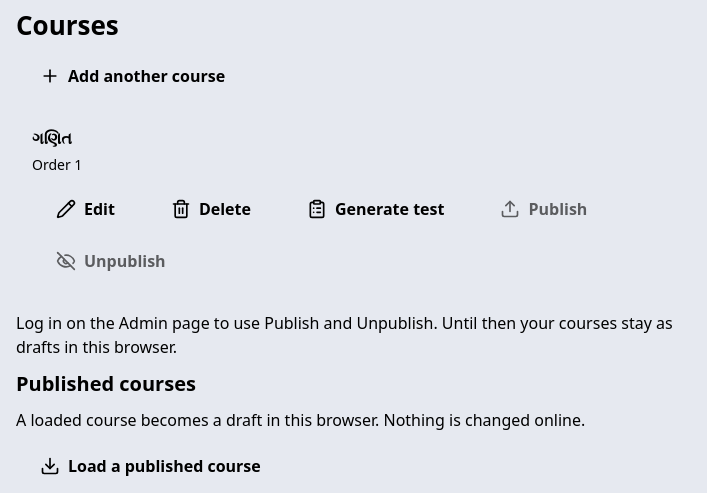
Test: CourseManager: delete a test › keeps the test and shows a friendly message when the storage fails
Click the button "Generate test".
click(376, 208)  # box [283,186,468,230]
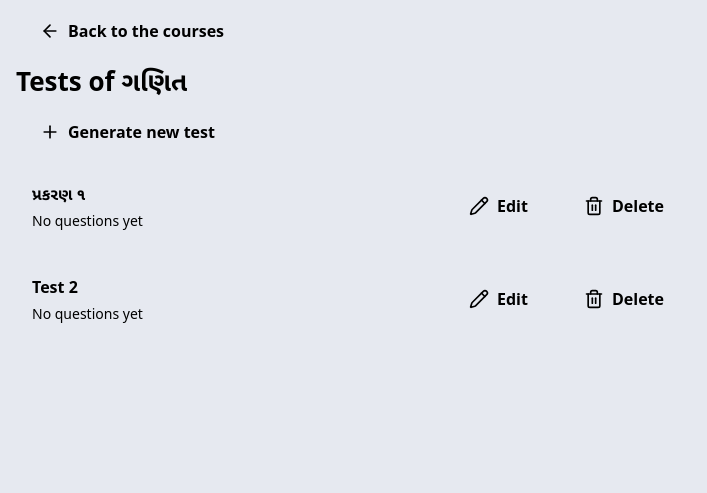
Click the button "Delete" in the row of "પ્રકરણ ૧".
click(624, 206)  # box [560,184,688,228]
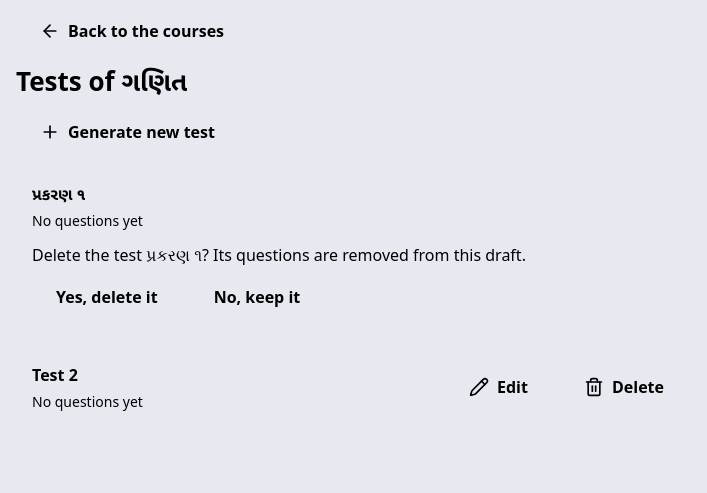
Click the button "Yes, delete it".
click(107, 296)  # box [32,274,182,318]
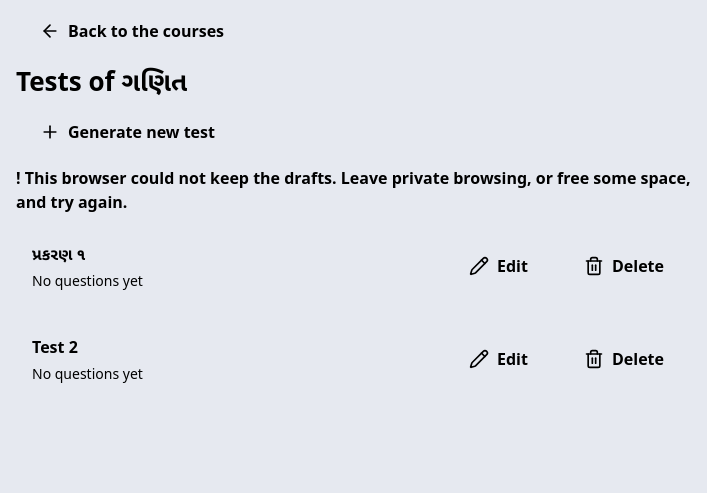
Expected: the text "પ્રકરણ ૧" is shown, [32,242,86,264]
Expected: the message shows "This browser could not keep the drafts. Leave private browsing, or free some space, and try again.", [16,166,690,212]
